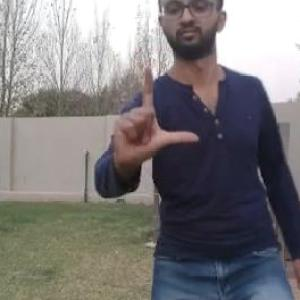land_hand: (107, 54, 207, 178)
